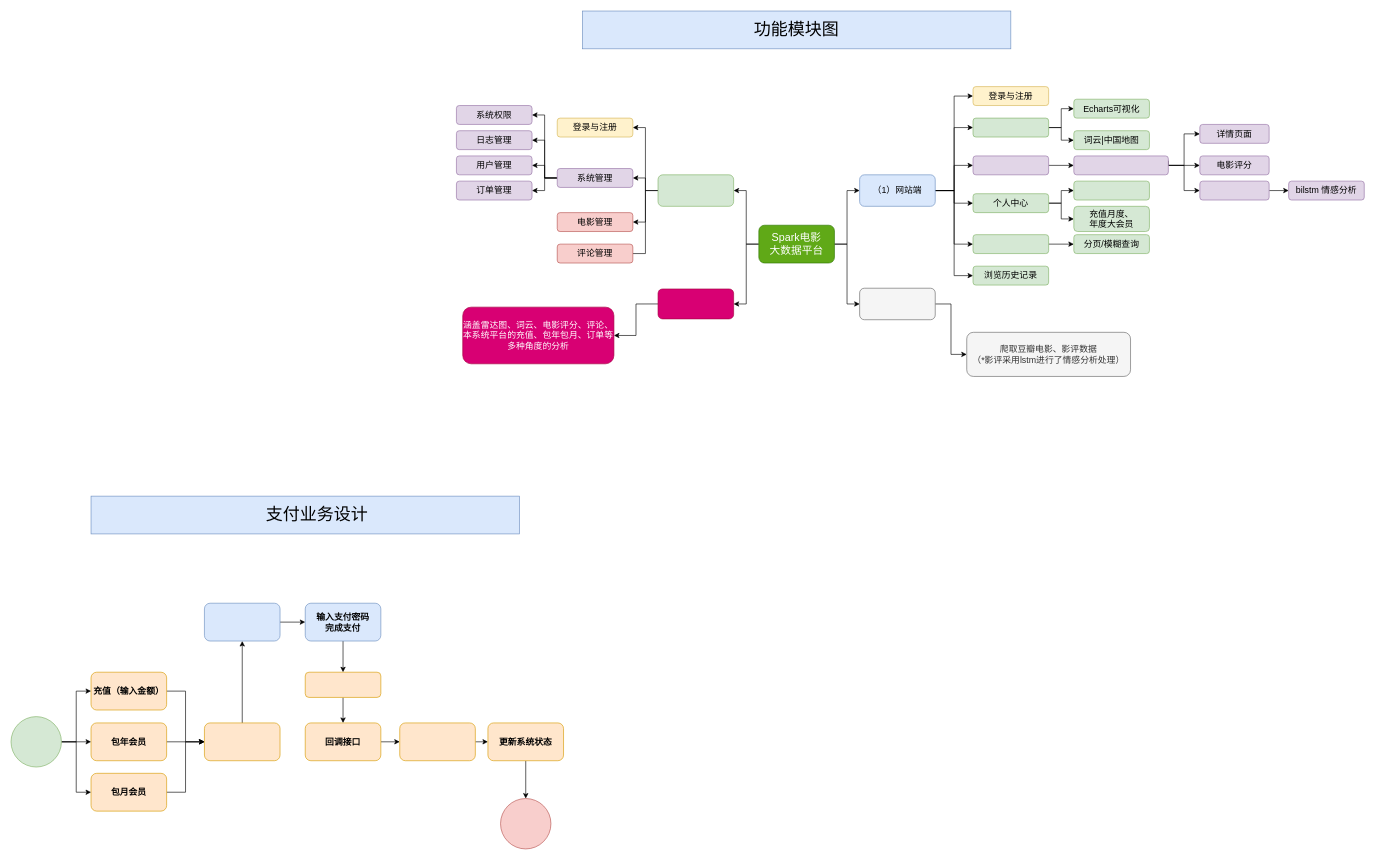
This 1375x860 diagram has some shape labels left out. Here are the shapes that lost their labels. From the top down, the box of each, then its label:
(972, 117, 1049, 137): 数据可视化
(972, 155, 1049, 175): 电影推荐
(1073, 155, 1168, 175): 双协同过滤推荐算法
(657, 174, 734, 206): （2）管理端
(1073, 180, 1149, 200): 短信修改密码
(1199, 180, 1269, 200): 电影评论
(972, 234, 1049, 254): 数据查询
(657, 288, 734, 319): （3）大屏端
(859, 288, 935, 320): （4）爬虫
(204, 603, 280, 641): 支付宝沙箱登录
(305, 672, 381, 697): NATAPP
(10, 716, 61, 767): 开始
(204, 722, 280, 761): 点击支付， 产生订单
(399, 722, 475, 761): 更新订单状态
(500, 798, 551, 849): 结束
